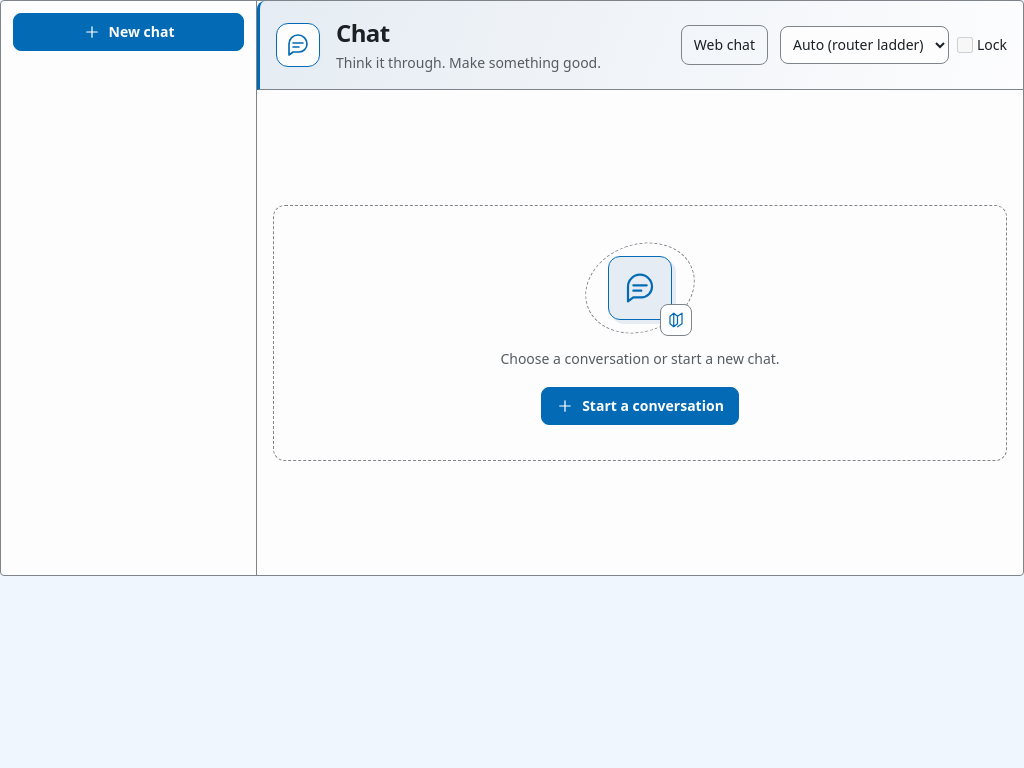
it: ChatPage › UX-06 starts a conversation from the illustrated empty state without sending a paid request
Click the button "Start a conversation": (640, 406) 541,387 -> 739,425
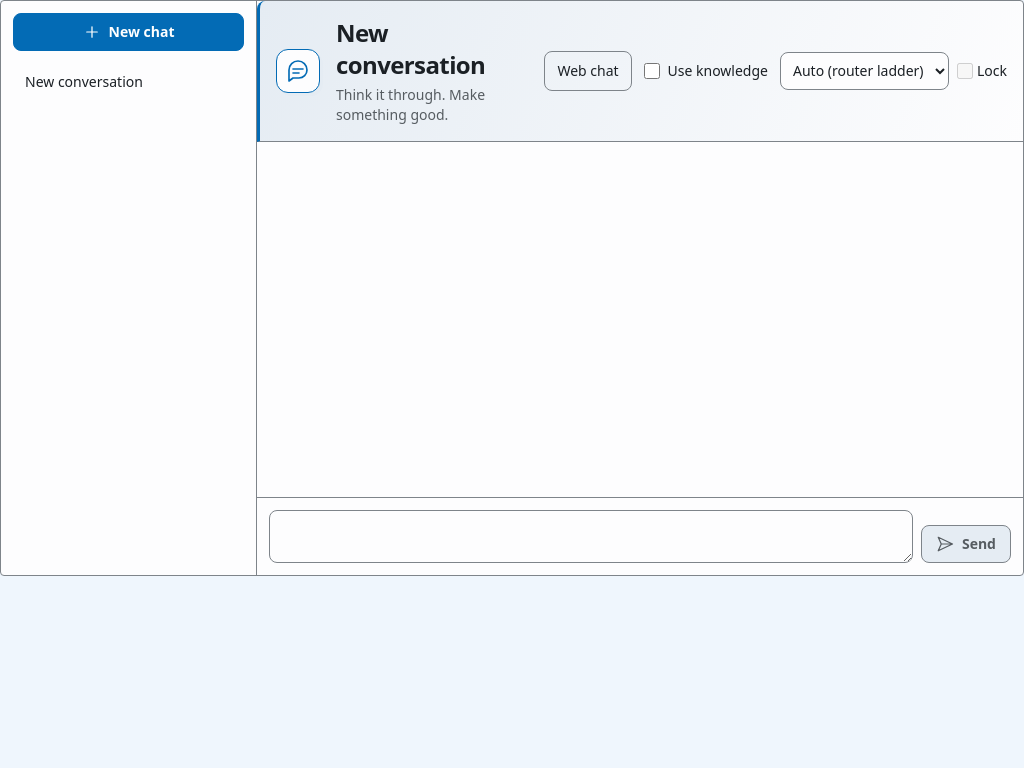
Expected: the heading "New conversation" is shown, 336,16 -> 485,81
Expected: the text box named "Message" is shown, 269,510 -> 913,563
